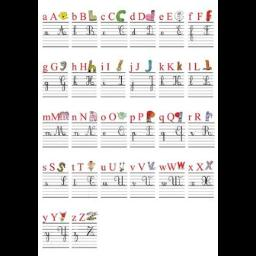a: (48, 10, 58, 24)
b: (80, 12, 88, 24)
c: (116, 8, 126, 22)
